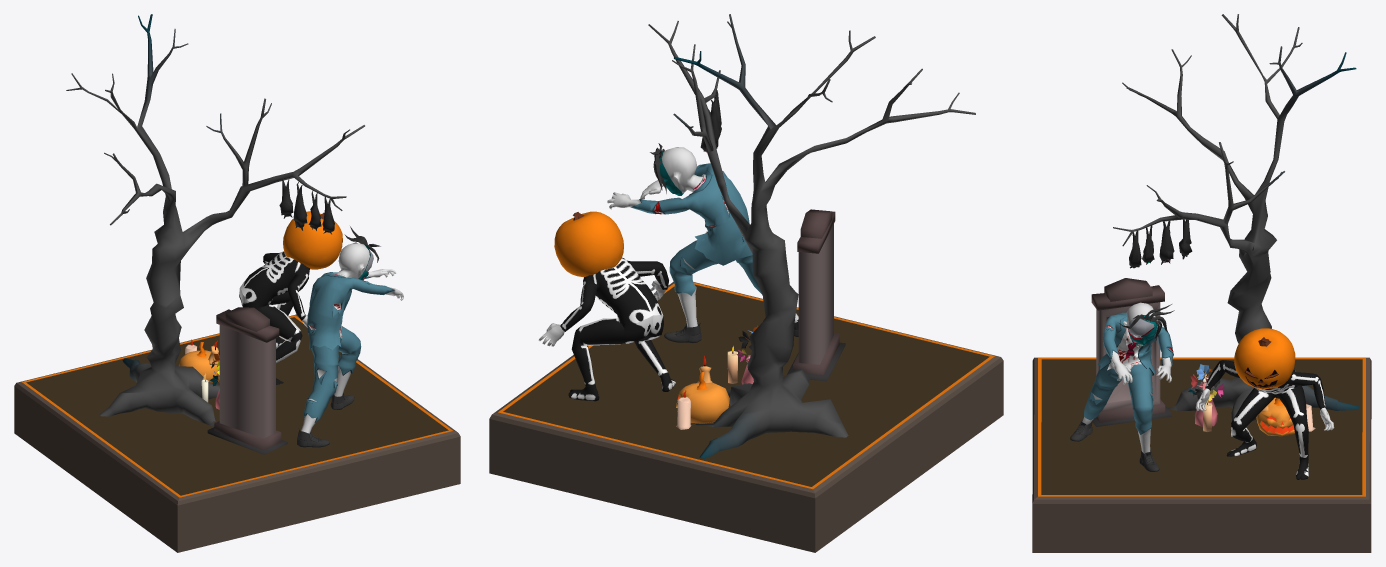
The model's file is halloween_stand.glb.
3 renders of one model, left to right at view 1: azimuth 30°, elevation 25°; view 2: azimuth 150°, elevation 25°; view 3: azimuth 270°, elevation 25°, orthographic. The views are drawn at different scales.
Visible parts, largest first — view 1: Cube.041, M_Head_BaseMesh.003, M_TopHead_Pumpkin2.003, M_TopHead_Pumpkin2.002; view 2: Cube.041, M_Head_BaseMesh.003, M_TopHead_Pumpkin2.003, M_TopHead_Pumpkin2.002; view 3: Cube.041, M_Head_BaseMesh.003, M_TopHead_Pumpkin2.003, M_TopHead_Pumpkin2.002.
Part boxes in pixels (<box>): Cube.041: <box>14,14,460,552</box>; M_Head_BaseMesh.003: <box>297,226,403,447</box>; M_TopHead_Pumpkin2.003: <box>239,251,309,384</box>; M_TopHead_Pumpkin2.002: <box>283,211,342,269</box>; Cube.041: <box>489,14,1003,552</box>; M_Head_BaseMesh.003: <box>607,143,798,343</box>; M_TopHead_Pumpkin2.003: <box>538,257,675,401</box>; M_TopHead_Pumpkin2.002: <box>554,211,623,277</box>; Cube.041: <box>1032,14,1371,552</box>; M_Head_BaseMesh.003: <box>1070,302,1174,471</box>; M_TopHead_Pumpkin2.003: <box>1195,360,1334,479</box>; M_TopHead_Pumpkin2.002: <box>1234,328,1295,388</box>.
Size of what is drawn, in the model's own units: 4.8 by 6.13 by 4.46.
Materials: 5 (5 with a texture image).
